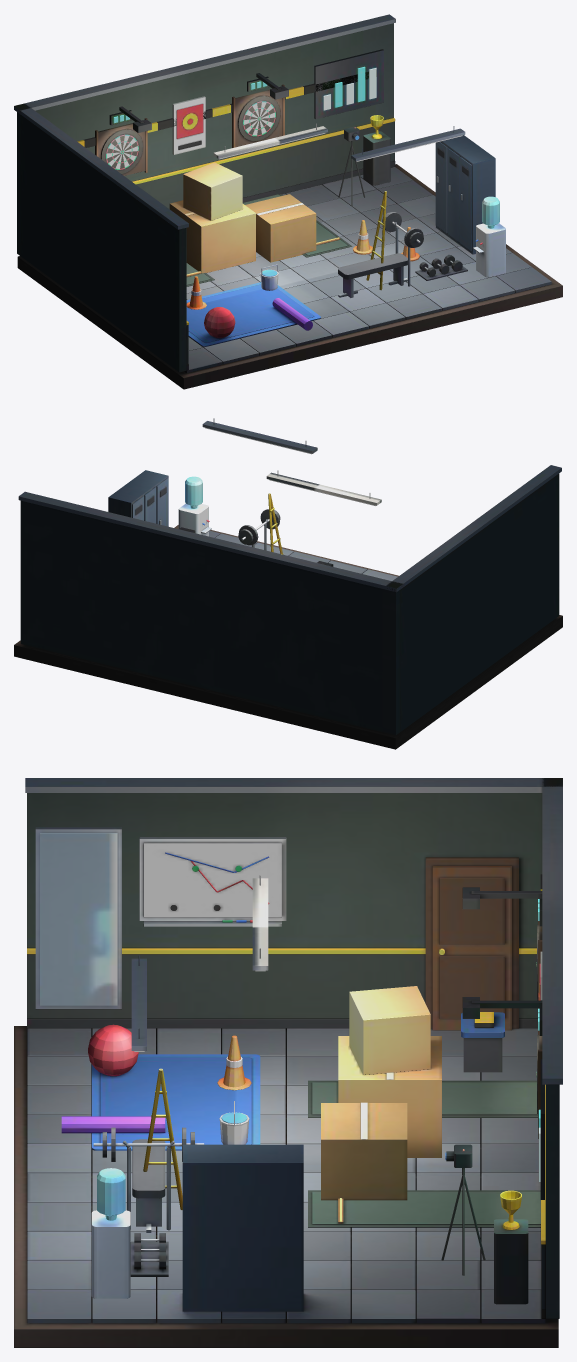
Rendered from raum_training.glb.
The picture shows the model from 3 angles, top to bottom: view 1: azimuth 30°, elevation 25°; view 2: azimuth 150°, elevation 25°; view 3: azimuth 270°, elevation 25°; orthographic projection. The views are drawn at different scales.
Parts seen in each view (by area): view 1: huelle, bau, lv3, lv5, lv2, basis, wasser, poster, lv4; view 2: huelle, wasser, lv2; view 3: huelle, bau, lv3, basis, lv4, lv2, wasser, lv5.
Boxes of the visible parts, box(x1,y1,x2,y2) form: huelle: box(14, 14, 562, 389); bau: box(77, 70, 419, 309); lv3: box(186, 73, 352, 346); lv5: box(314, 49, 390, 185); lv2: box(338, 212, 467, 297); basis: box(95, 106, 214, 286); wasser: box(473, 196, 505, 277); poster: box(172, 96, 205, 154); lv4: box(338, 126, 364, 206); huelle: box(14, 418, 562, 749); wasser: box(178, 476, 211, 536); lv2: box(238, 509, 280, 550); huelle: box(14, 778, 562, 1347); bau: box(143, 874, 542, 1209); lv3: box(61, 997, 542, 1227); basis: box(139, 837, 542, 1117); lv4: box(35, 827, 485, 1275); lv2: box(93, 1127, 204, 1276); wasser: box(91, 1168, 130, 1298); lv5: box(494, 1059, 544, 1304).
Bounding box in the file's own units: 8.35 × 3.38 × 6.35.
Materials: 1 (1 with a texture image).
